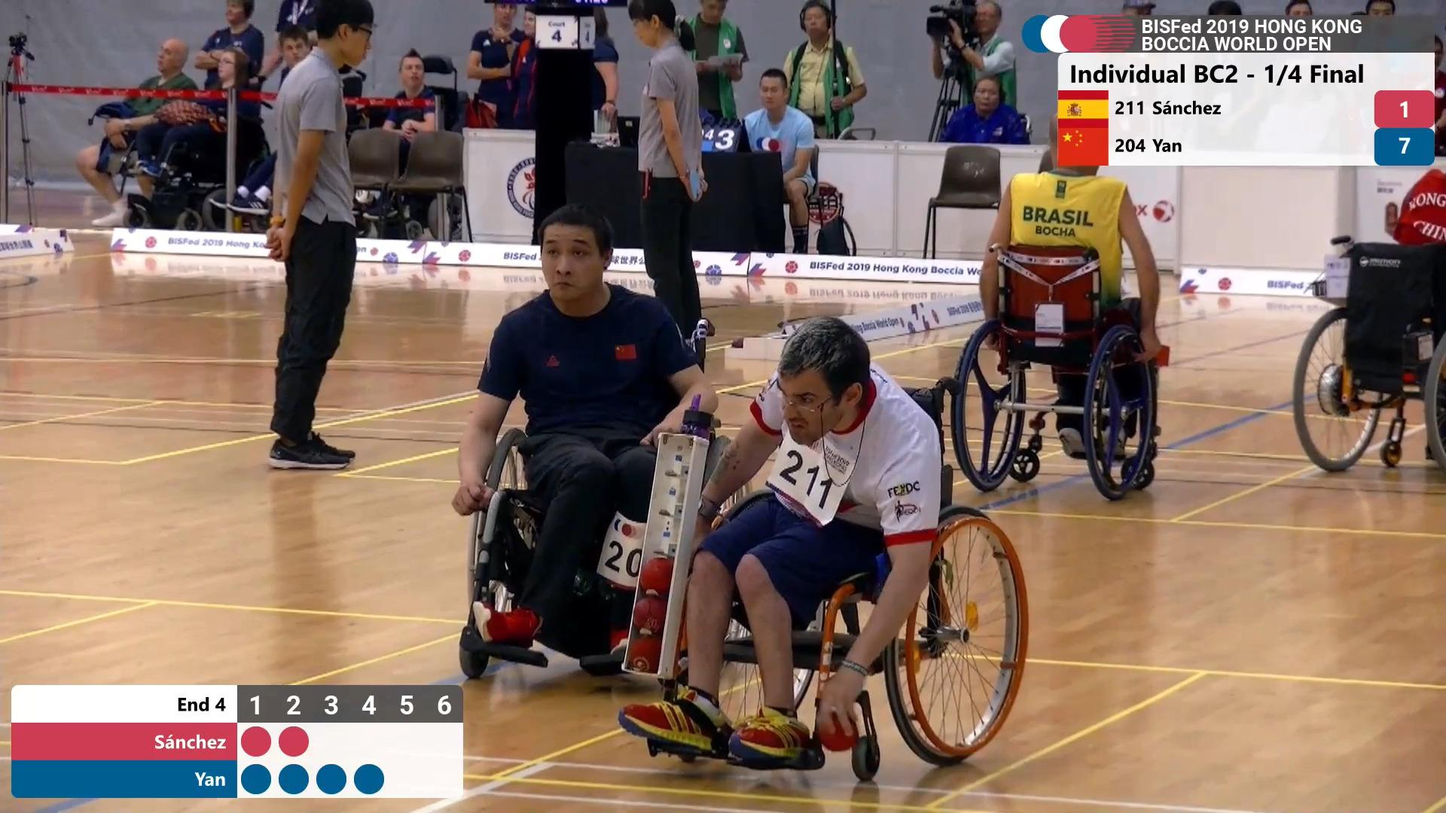red_ball: (623, 634, 670, 676), (630, 596, 674, 637), (637, 557, 679, 599)
